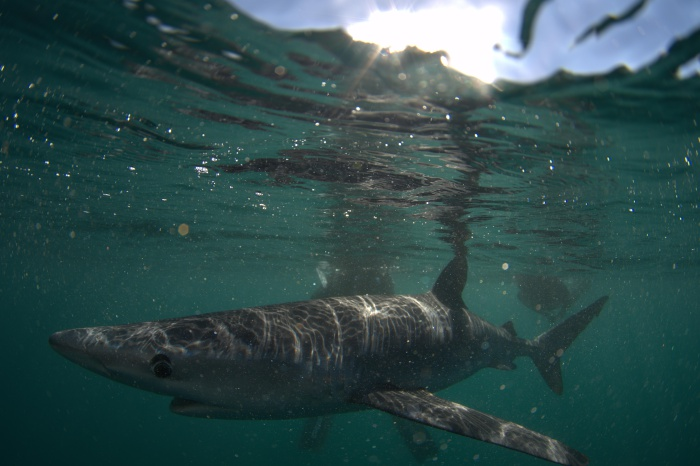Azul: (239, 103, 700, 283)
